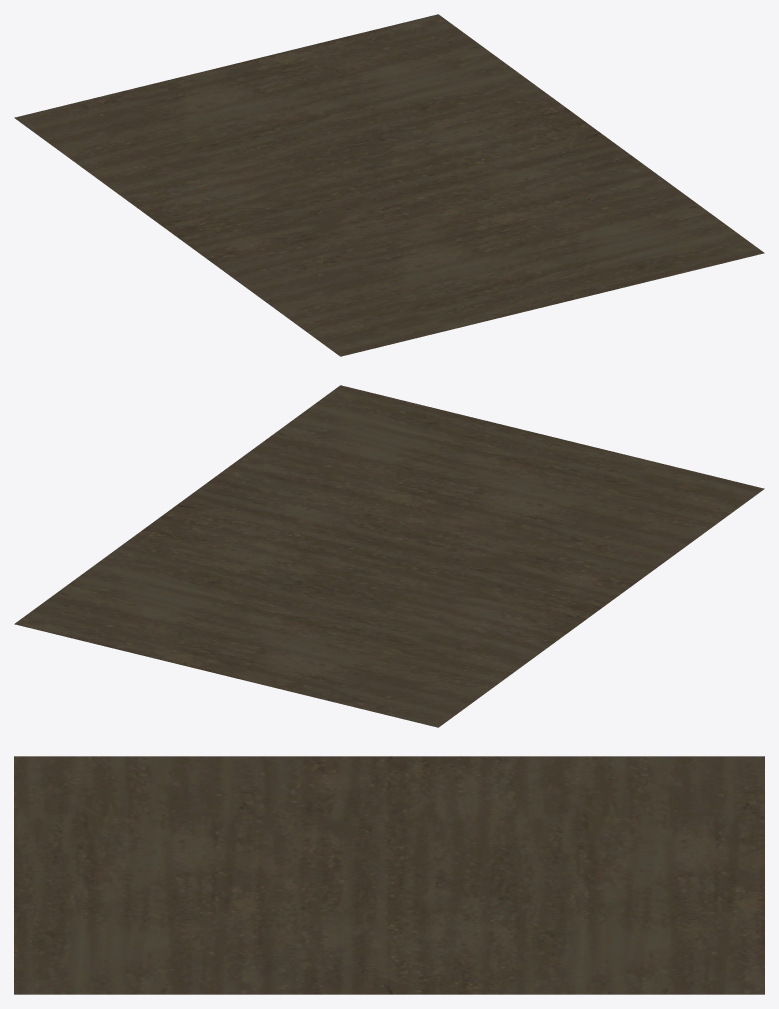
Rendered from menu_blend_path04.fbx.
The picture shows the model from 3 angles, top to bottom: view 1: azimuth 30°, elevation 25°; view 2: azimuth 150°, elevation 25°; view 3: azimuth 270°, elevation 25°; orthographic projection. The views are drawn at different scales.
Visible parts, largest first — view 1: new_stone/dirt_road001_blend2_shadow; view 2: new_stone/dirt_road001_blend2_shadow; view 3: new_stone/dirt_road001_blend2_shadow.
Part boxes in pixels (x1,y1,x2,y2): new_stone/dirt_road001_blend2_shadow: (14,14,764,356); new_stone/dirt_road001_blend2_shadow: (14,385,764,727); new_stone/dirt_road001_blend2_shadow: (14,756,764,994).
Bounding box in the file's own units: 6.1 × 0 × 8.12.
